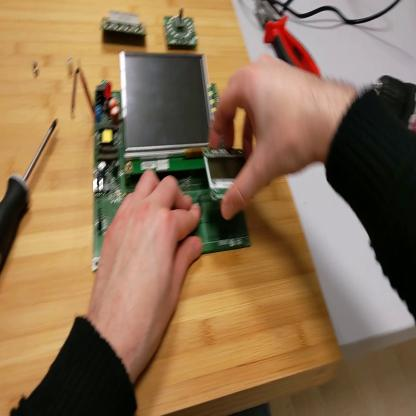hand: (91, 167, 203, 366), (206, 54, 333, 219)
low voltage board: (76, 49, 256, 270)
pliers: (256, 3, 324, 79)
screwdriver-: (2, 116, 57, 274)
working area: (1, 1, 353, 406)
